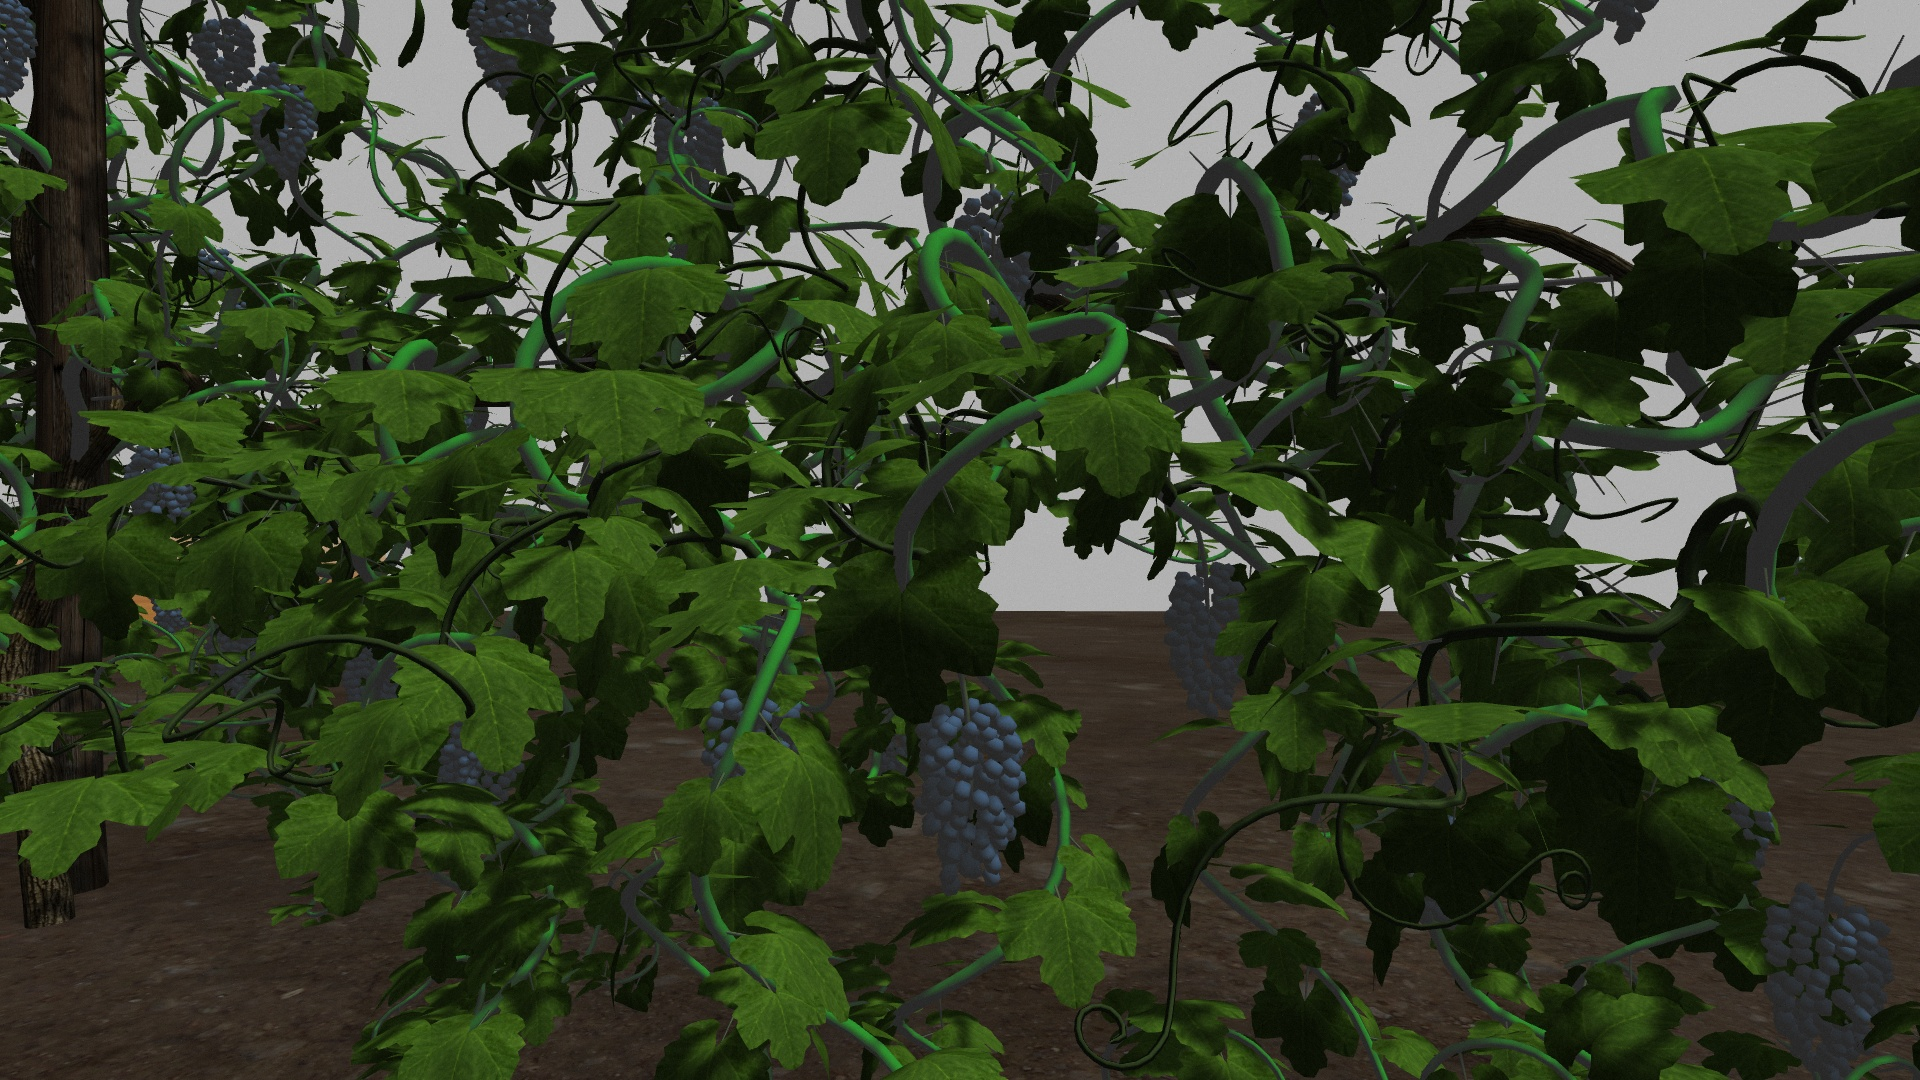grape: (1762, 880, 1891, 1069), (916, 703, 1029, 895), (1160, 570, 1257, 720), (464, 7, 556, 98), (247, 71, 319, 178), (654, 98, 724, 189), (189, 20, 258, 90), (127, 446, 193, 520)
